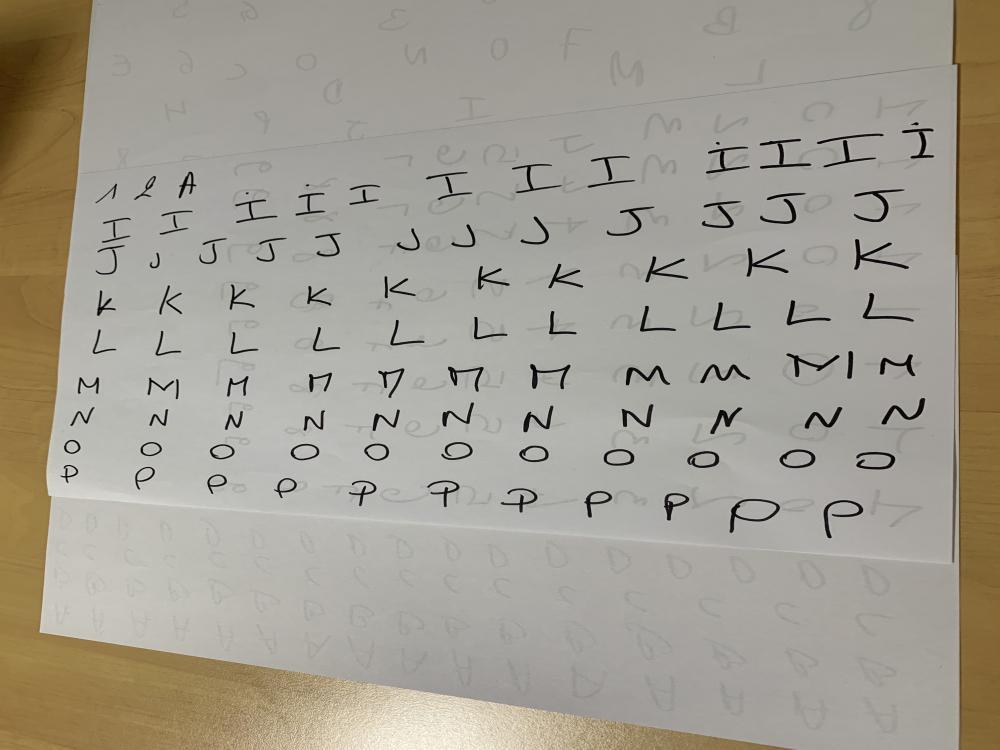0: (850, 449, 898, 473), (684, 448, 724, 472), (779, 447, 818, 470), (438, 441, 477, 461), (517, 444, 552, 463), (602, 447, 635, 466), (289, 443, 321, 462), (362, 442, 390, 462), (208, 443, 237, 462), (138, 440, 164, 458), (64, 438, 82, 454)
1: (94, 180, 126, 208)
2: (132, 174, 160, 202)
A: (174, 170, 202, 198)
I: (818, 132, 886, 170), (757, 137, 811, 172), (510, 162, 563, 195), (424, 170, 476, 202), (588, 155, 638, 188), (704, 145, 752, 173), (232, 198, 279, 226), (899, 127, 937, 161), (158, 208, 195, 237), (98, 216, 134, 244), (347, 181, 382, 206), (294, 192, 328, 217)
J: (850, 187, 908, 225), (758, 192, 808, 226), (606, 206, 656, 237), (91, 245, 128, 278), (702, 199, 740, 229), (199, 234, 229, 268), (308, 231, 344, 259), (520, 216, 551, 246), (254, 236, 288, 263), (397, 226, 424, 253), (450, 224, 478, 250), (146, 251, 162, 272)
K: (852, 238, 912, 274), (740, 247, 794, 280), (642, 254, 692, 286), (547, 263, 585, 291), (474, 264, 512, 290), (380, 275, 418, 300), (229, 282, 258, 311), (159, 285, 184, 316), (304, 284, 336, 308), (96, 289, 116, 318)
L: (860, 292, 916, 326), (783, 297, 833, 327), (638, 302, 678, 336), (712, 301, 754, 332), (388, 318, 428, 348), (542, 309, 583, 338), (468, 314, 509, 340), (154, 327, 184, 357), (312, 326, 342, 354), (226, 331, 260, 355), (90, 327, 117, 356)
M: (789, 348, 858, 382), (524, 361, 576, 392), (698, 360, 755, 386), (444, 363, 487, 393), (139, 376, 185, 402), (624, 364, 672, 388), (375, 368, 408, 397), (879, 354, 917, 379), (223, 376, 254, 398), (72, 376, 104, 397), (306, 373, 336, 394)
N: (880, 398, 930, 428), (436, 401, 477, 429), (616, 404, 658, 430), (518, 405, 557, 433), (803, 405, 844, 431), (710, 406, 744, 437), (370, 408, 404, 432), (298, 410, 330, 434), (69, 404, 99, 427), (218, 410, 248, 433), (146, 409, 173, 430)
P: (726, 498, 780, 536), (822, 498, 866, 540), (498, 488, 542, 514), (428, 480, 463, 508), (582, 490, 613, 520), (662, 492, 690, 524), (348, 480, 377, 506), (132, 466, 156, 492), (273, 477, 298, 500), (206, 474, 230, 495), (61, 463, 79, 485)
